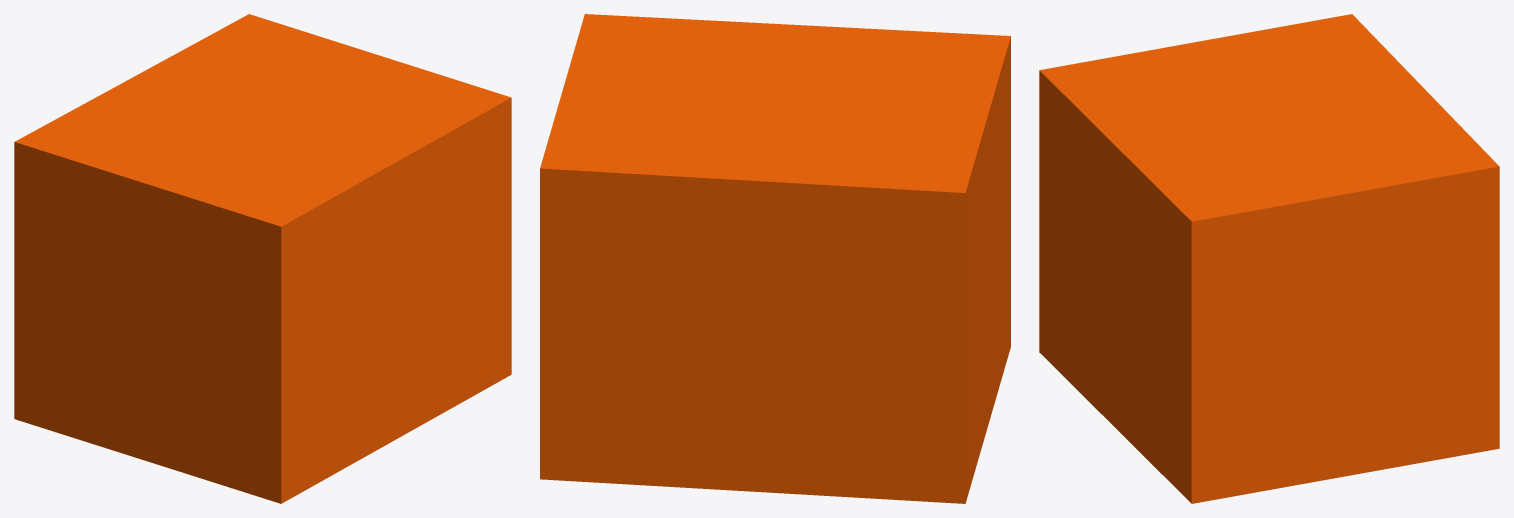
The model's file is DEHB01AL43M0001B.dae.
3 views of the same model, side by side, from view 1: azimuth 30°, elevation 25°; view 2: azimuth 150°, elevation 25°; view 3: azimuth 270°, elevation 25° (orthographic). The views are drawn at different scales.
Bounding box in the file's own units: 7.21 × 6.75 × 4.57.
